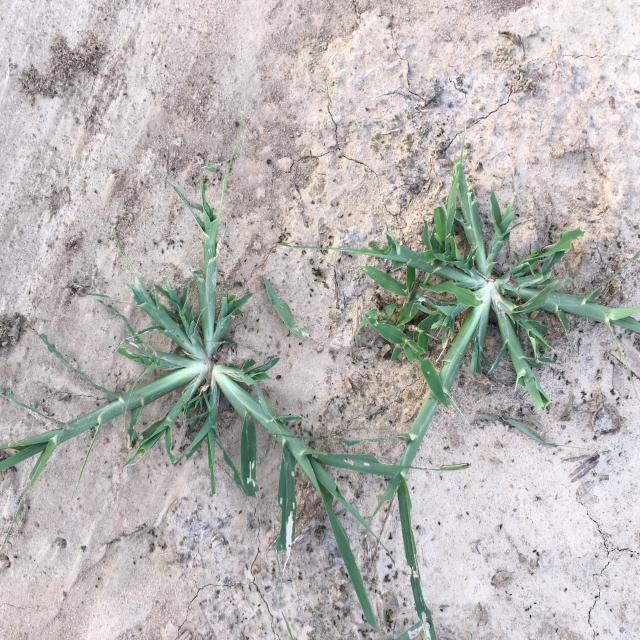Goosegrass: (1, 158, 413, 633), (298, 138, 640, 640)
